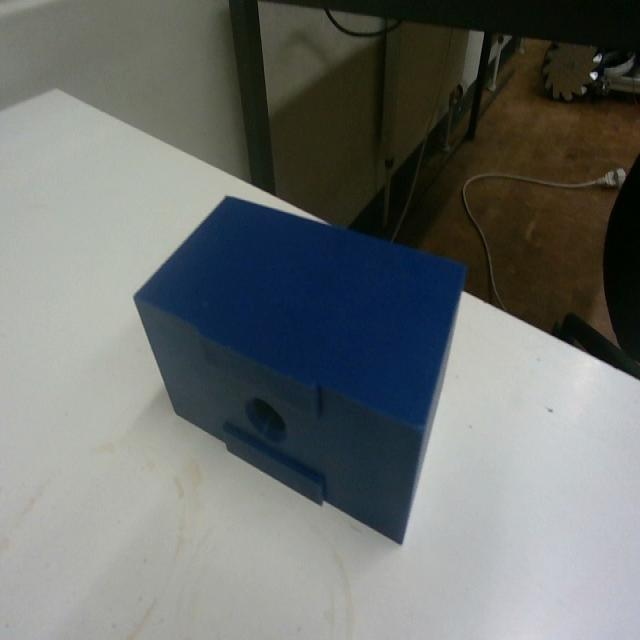Blue Cuboid: (131, 191, 468, 545)
